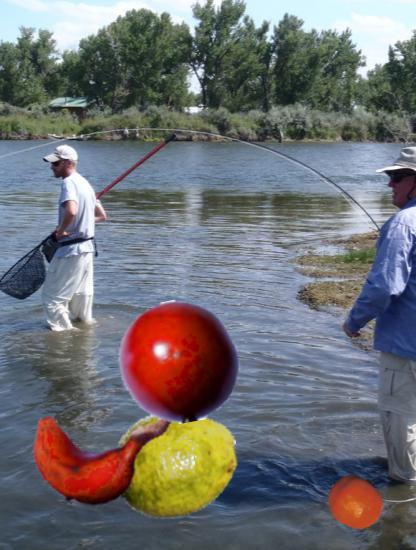Banana: (32, 385, 167, 520)
Clementine: (327, 473, 385, 531)
Guava: (116, 401, 239, 524)
Tamarillo: (118, 300, 241, 423)
